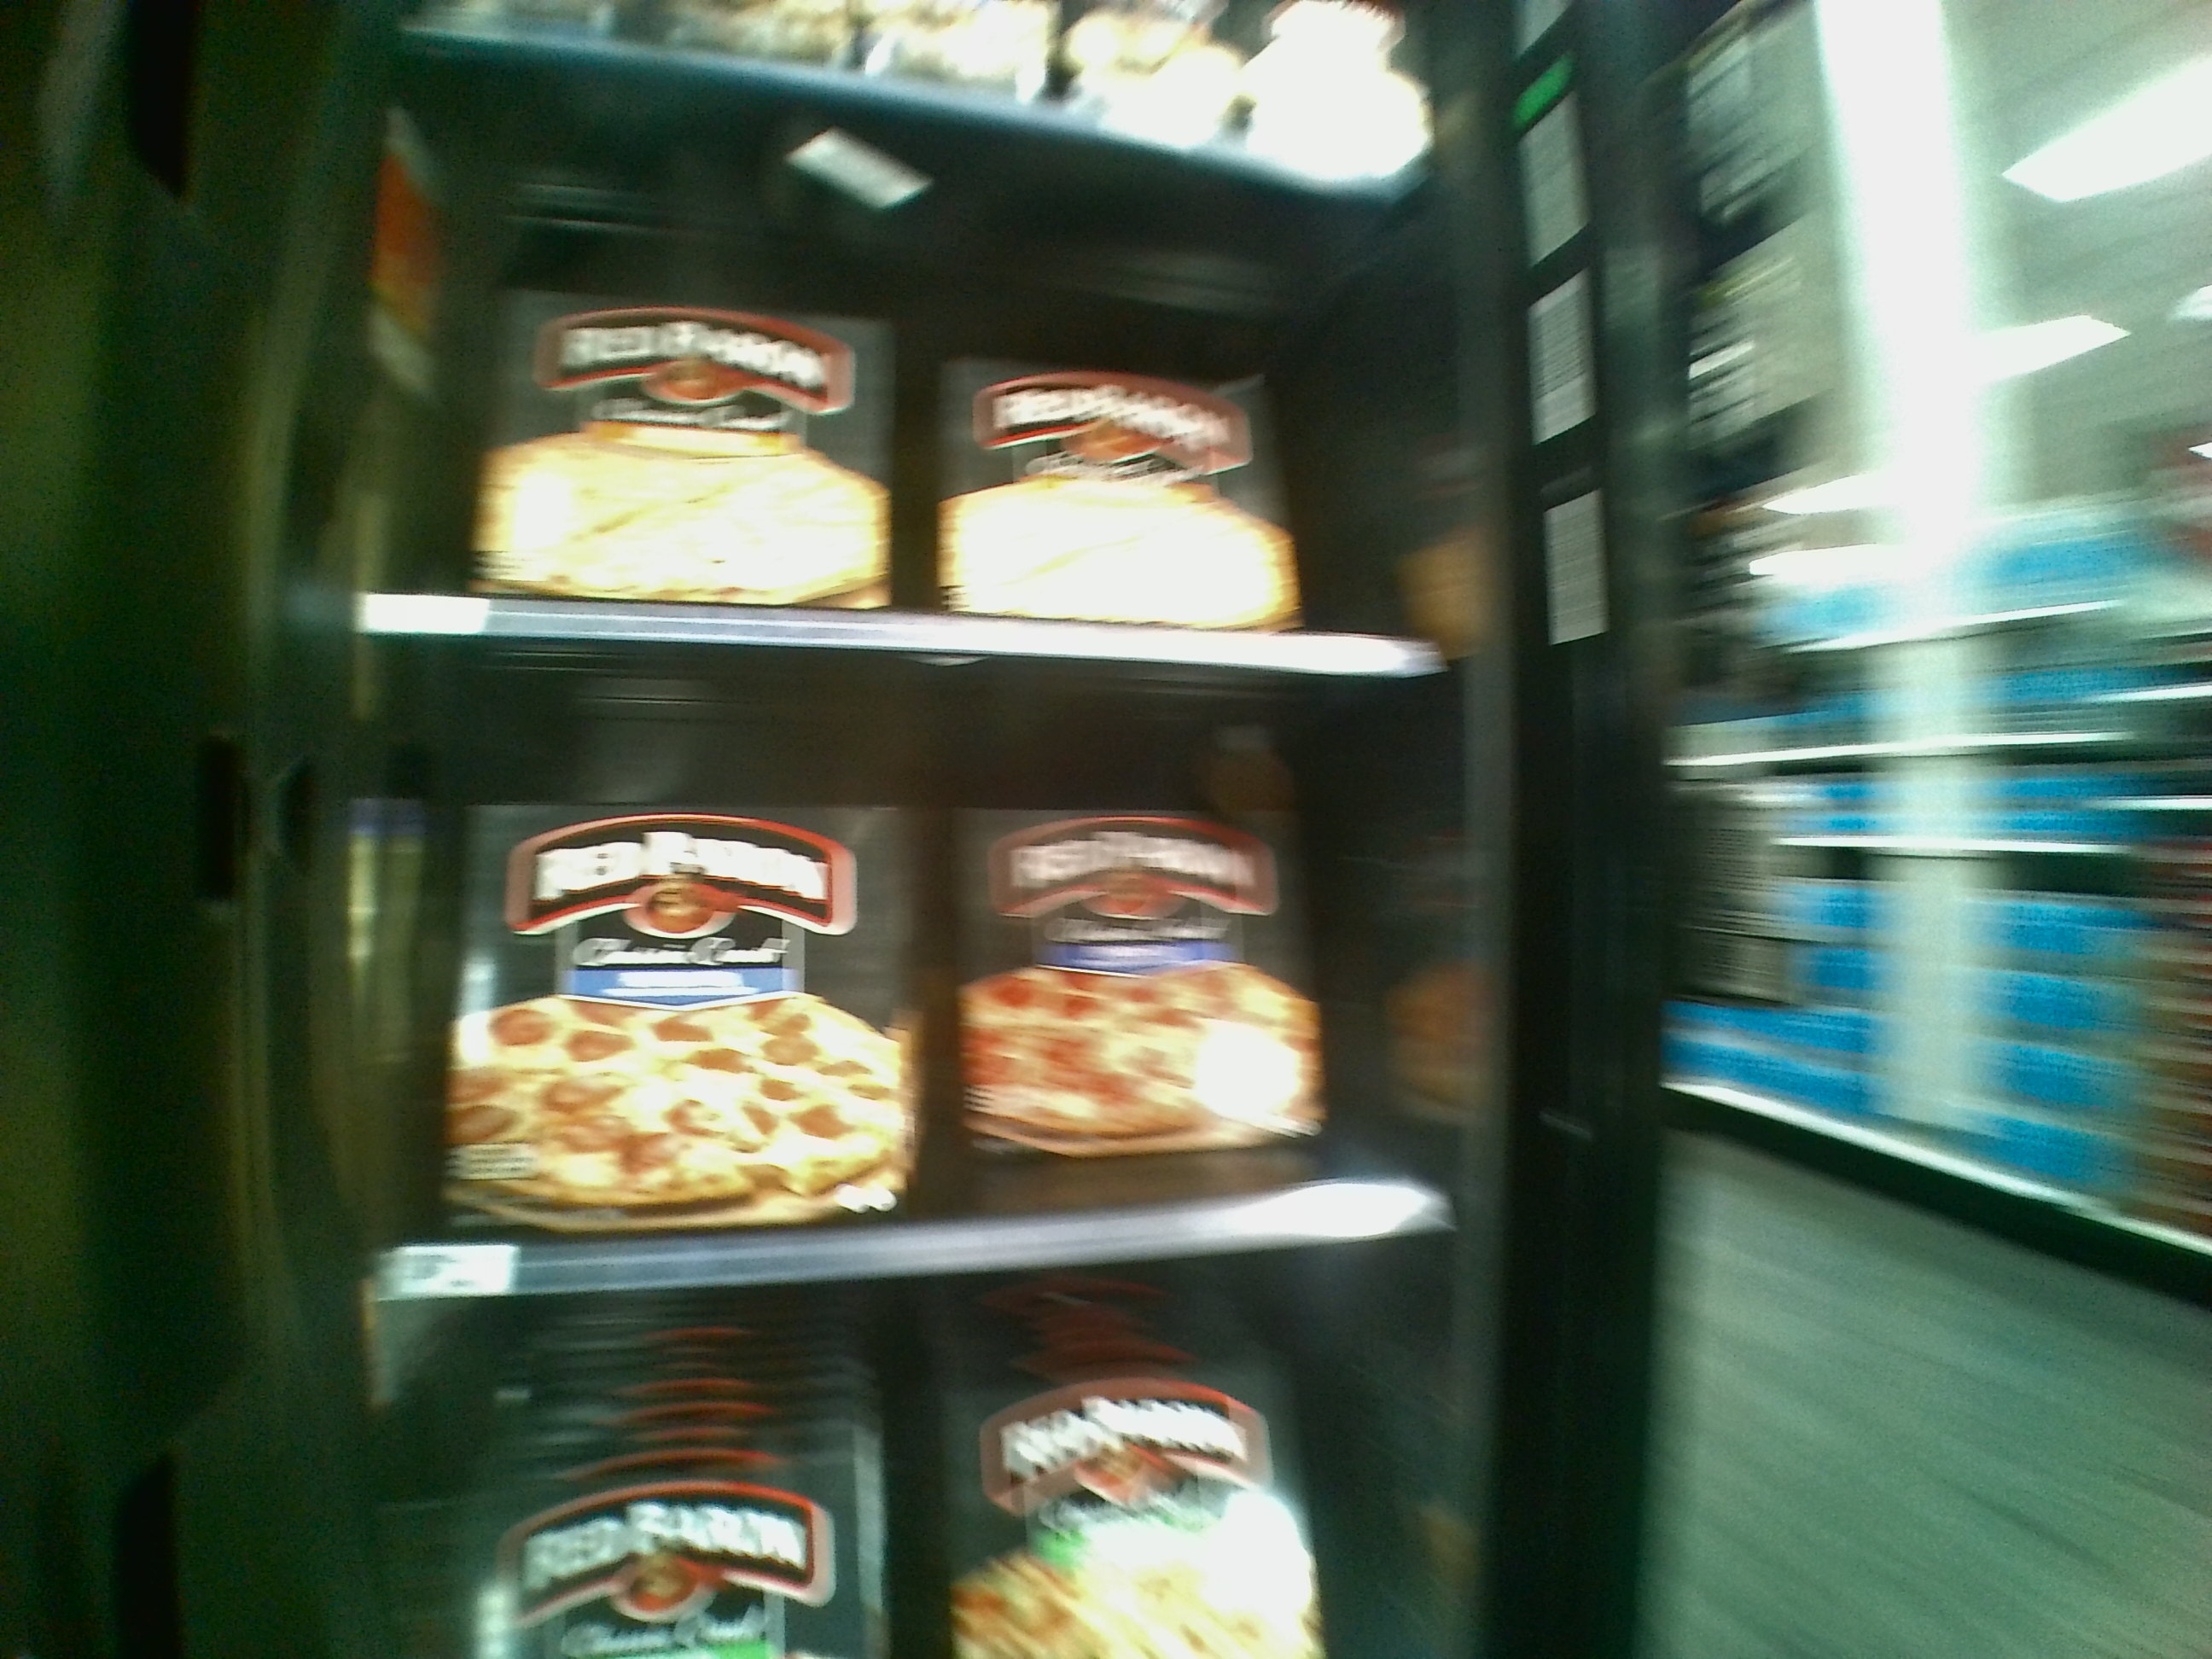shelf: (361, 674, 1453, 1270), (388, 122, 1433, 667)
